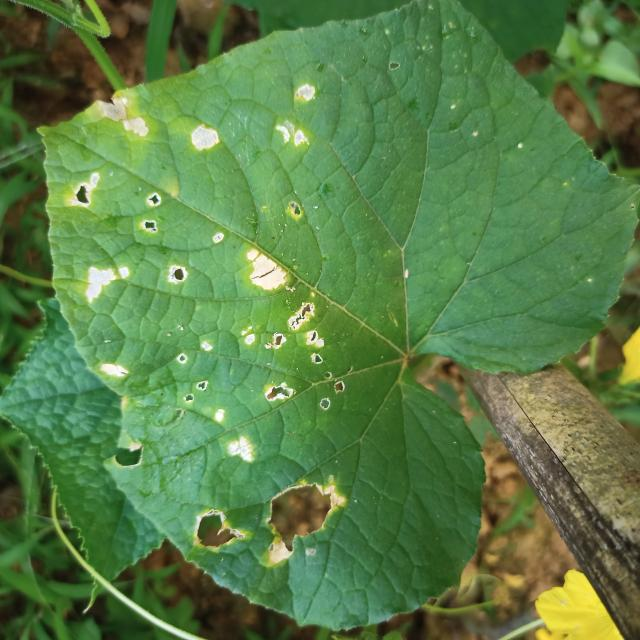disease_cucumber: (242, 298, 350, 411), (266, 469, 346, 566), (274, 80, 322, 147), (193, 502, 245, 553), (78, 258, 133, 306), (244, 243, 291, 292), (101, 95, 149, 136), (138, 191, 166, 237), (72, 173, 104, 208), (190, 122, 221, 154), (227, 430, 256, 463), (163, 263, 190, 287), (98, 359, 131, 378)
